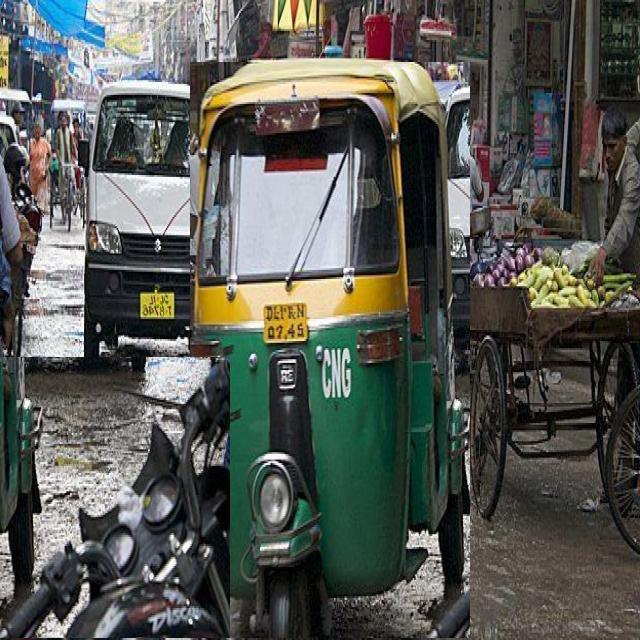autorickshaw: (190, 62, 470, 638)
car: (79, 82, 212, 370)
motorcycle: (0, 358, 230, 638)
